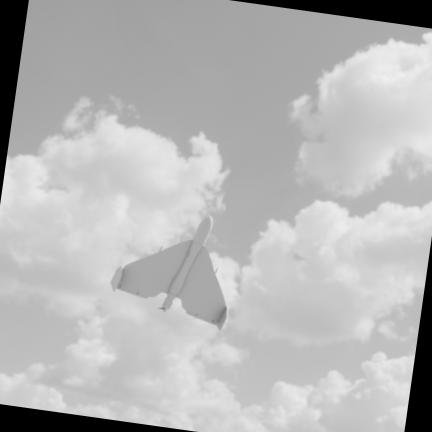Shahed: (111, 216, 226, 329)
